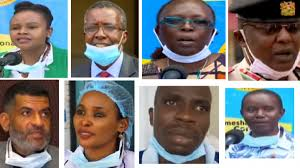mask_weared_incorrect: (157, 91, 211, 158), (243, 23, 299, 70), (161, 14, 213, 57), (85, 19, 120, 56)
without_mask: (73, 101, 117, 147), (17, 103, 53, 150), (244, 101, 281, 130), (10, 19, 45, 47)
